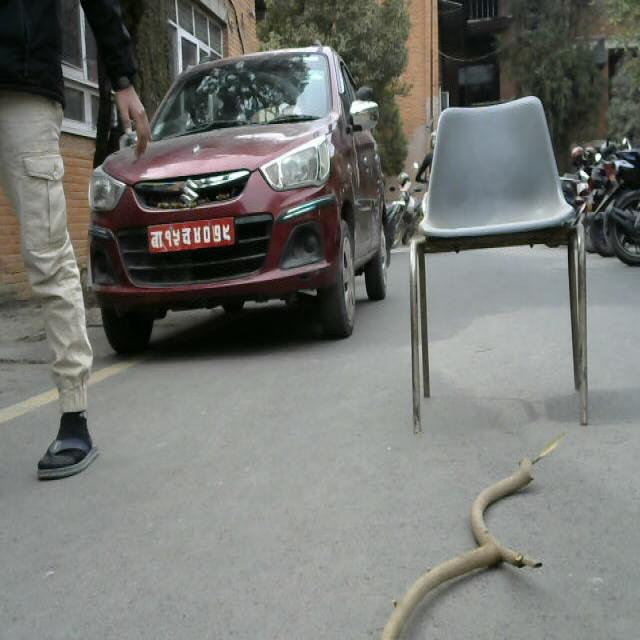Car: (86, 51, 376, 380)
small-obstacles: (395, 99, 594, 431), (359, 443, 559, 640)
